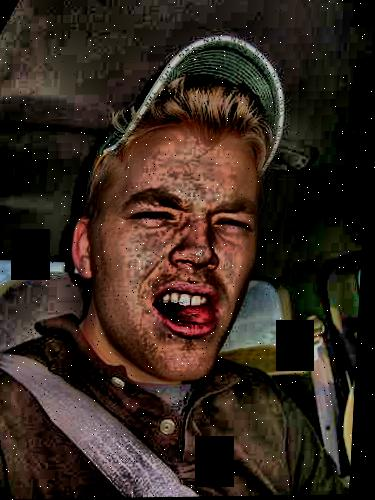seatbelt: (2, 337, 179, 500), (297, 321, 345, 425)
